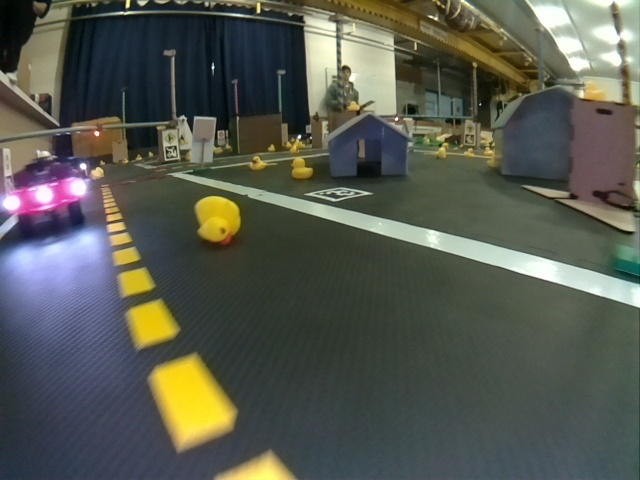Duckie: (195, 197, 241, 244), (291, 159, 312, 177), (250, 156, 266, 170), (348, 102, 359, 111), (437, 148, 446, 158), (465, 148, 474, 157), (120, 157, 130, 165), (268, 144, 276, 153), (148, 150, 156, 159), (135, 154, 143, 162)
Duckiebot: (3, 157, 87, 234)
QR code: (164, 145, 178, 159)
